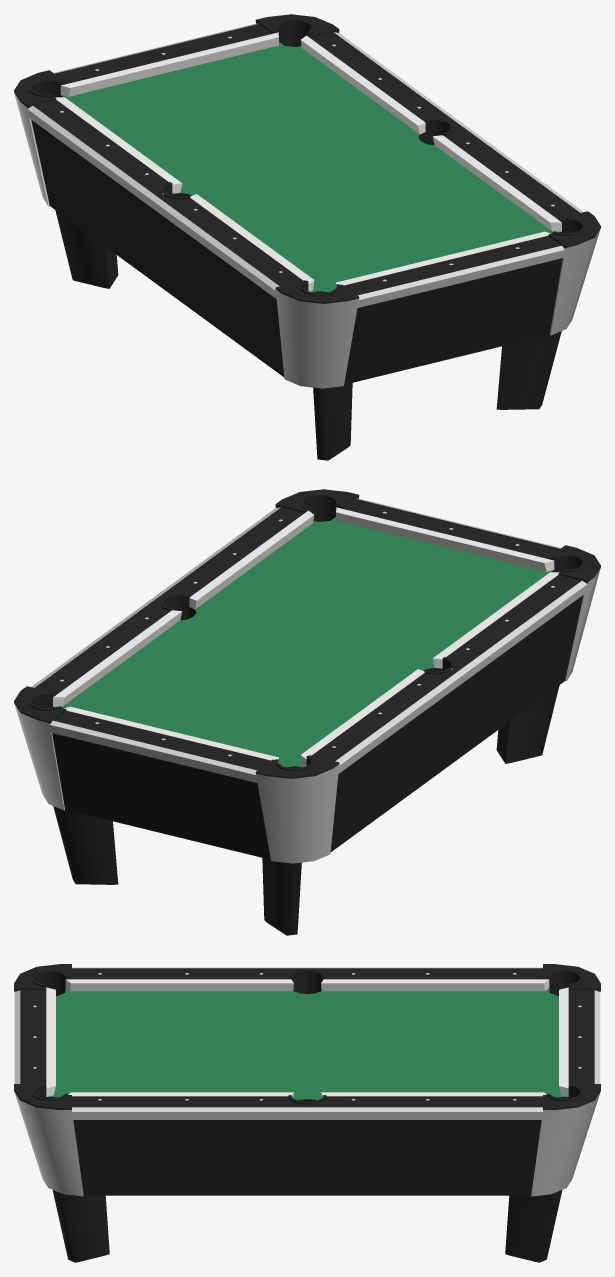
Rendered from Game_Pool_Table_53x91.fbx.
3 views of the same model, one above another, from view 1: azimuth 30°, elevation 25°; view 2: azimuth 150°, elevation 25°; view 3: azimuth 270°, elevation 25° (orthographic). The views are drawn at different scales.
Visible parts, largest first — view 1: Pool_Table_Quarter4, Pool_Table_Quarter3, Pool_Table_Quarter1, Pool_Table_Quarter2; view 2: Pool_Table_Quarter1, Pool_Table_Quarter2, Pool_Table_Quarter4, Pool_Table_Quarter3; view 3: Pool_Table_Quarter2, Pool_Table_Quarter3, Pool_Table_Quarter1, Pool_Table_Quarter4.
Boxes of the visible parts, x1,y1,x2,y2 form: Pool_Table_Quarter4: (151, 169, 461, 460); Pool_Table_Quarter3: (308, 123, 600, 409); Pool_Table_Quarter1: (14, 48, 306, 291); Pool_Table_Quarter2: (154, 14, 462, 168); Pool_Table_Quarter1: (153, 644, 463, 935); Pool_Table_Quarter2: (14, 598, 306, 884); Pool_Table_Quarter4: (308, 523, 600, 766); Pool_Table_Quarter3: (152, 489, 460, 643); Pool_Table_Quarter2: (307, 1038, 600, 1262); Pool_Table_Quarter3: (14, 1038, 307, 1262); Pool_Table_Quarter1: (307, 964, 600, 1046); Pool_Table_Quarter4: (14, 964, 307, 1046).
Size of the model in its own units: 53 by 30.1 by 91.
